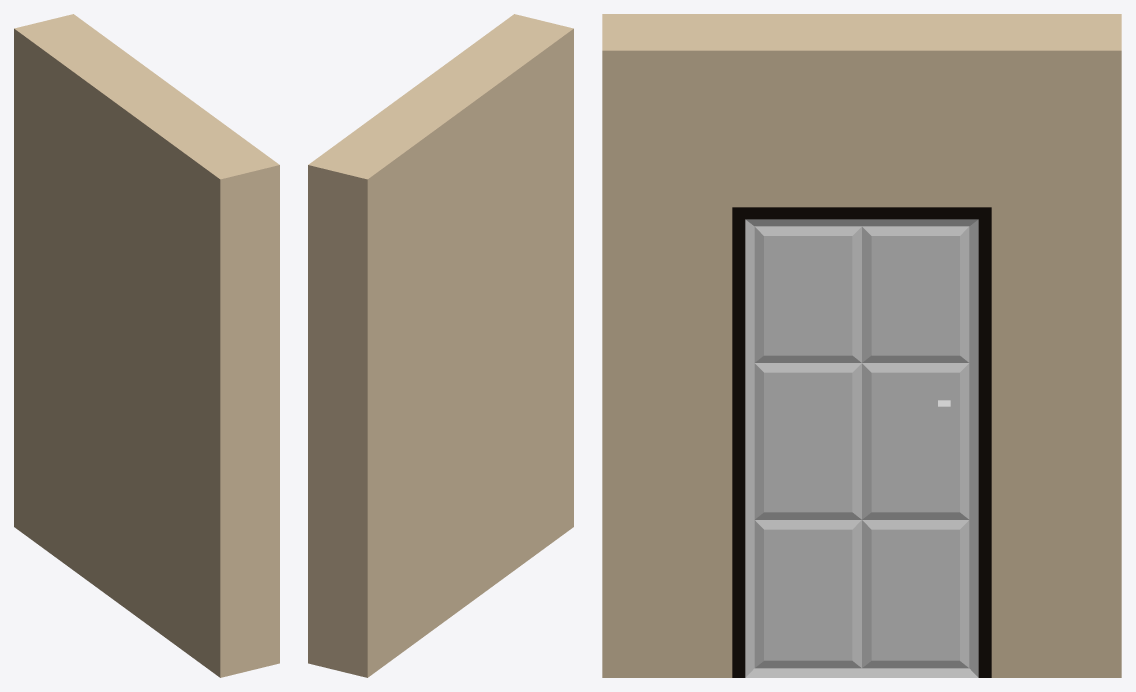
Rendered from WallDoor.fbx.
3 renders of one model, left to right at view 1: azimuth 30°, elevation 25°; view 2: azimuth 150°, elevation 25°; view 3: azimuth 270°, elevation 25°, orthographic. The views are drawn at different scales.
Parts seen in each view (by area): view 1: WallDoor; view 2: WallDoor; view 3: WallDoor.
Boxes of the visible parts, x1,y1,x2,y2 form: WallDoor: [14, 14, 279, 677]; WallDoor: [308, 14, 573, 677]; WallDoor: [602, 14, 1121, 677].
Bounding box in the file's own units: 35.68 × 183 × 244.
